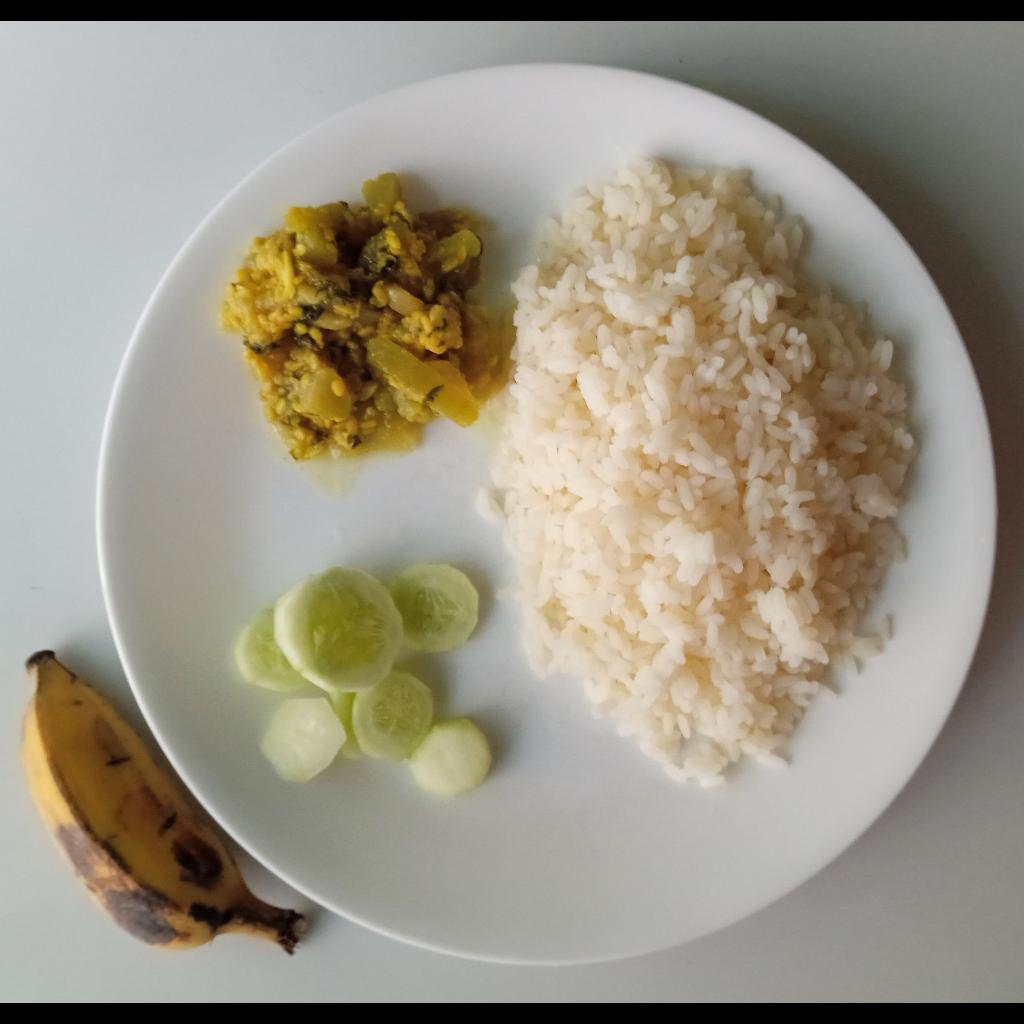banana: (20, 650, 310, 959)
cucumber: (234, 563, 493, 795)
lau: (221, 177, 511, 461)
rice: (472, 163, 925, 795)
